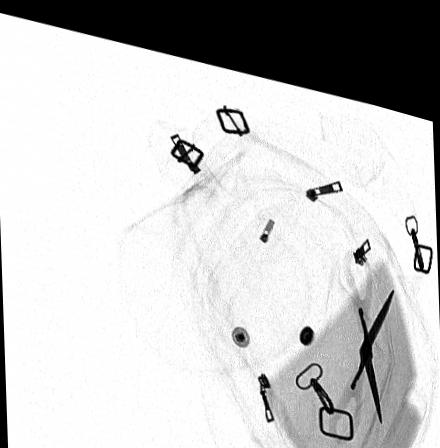Scissors: (328, 228, 398, 429)
